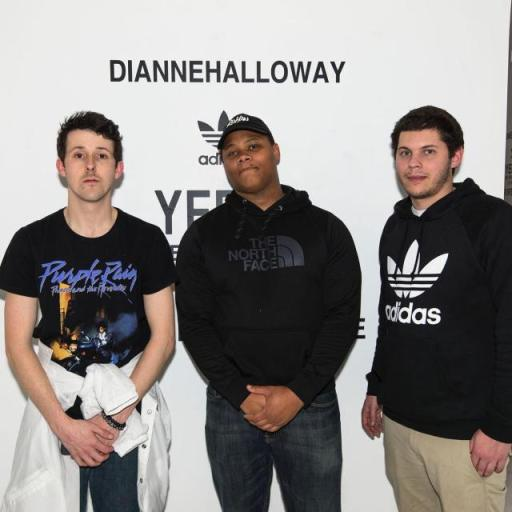Adidas: (384, 238, 452, 326), (194, 108, 233, 166)
